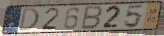2: (101, 4, 124, 30), (41, 7, 61, 31)
5: (123, 4, 146, 29)
6: (63, 7, 81, 30)
B: (79, 5, 105, 31)
D: (18, 7, 41, 33)
